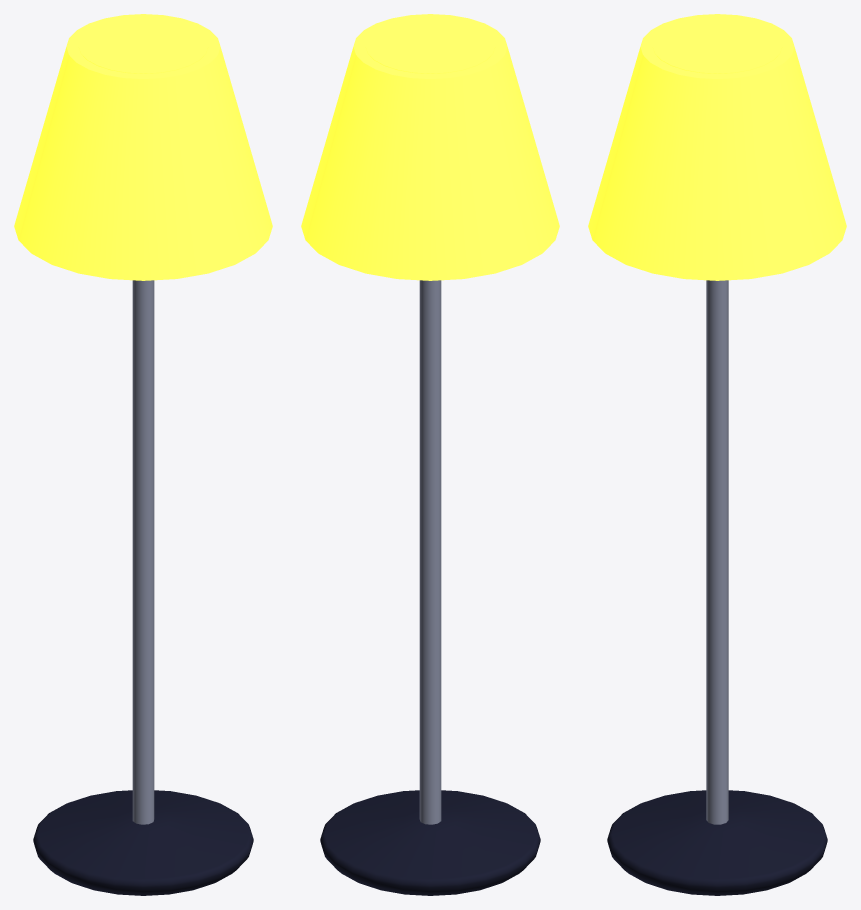
Rendered from floor_lamp.glb.
3 renders of one model, left to right at view 1: azimuth 30°, elevation 25°; view 2: azimuth 150°, elevation 25°; view 3: azimuth 270°, elevation 25°, orthographic.
Visible parts, largest first — view 1: Body; view 2: Body; view 3: Body.
Part boxes in pixels (box(x1,y1,x2,y2)): Body: box(14, 14, 272, 895); Body: box(301, 14, 559, 895); Body: box(588, 14, 846, 895).
Bounding box in the file's own units: 0.47 × 1.62 × 0.47.
